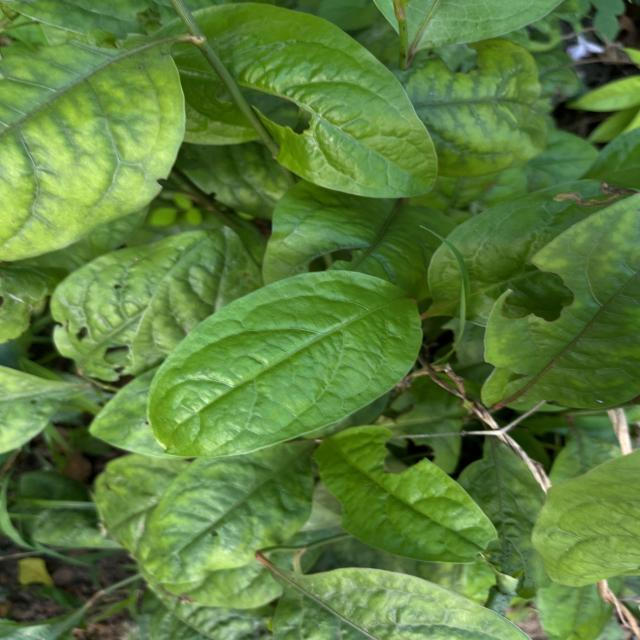Plumbago indica: (142, 266, 427, 462), (178, 1, 448, 202), (307, 419, 504, 568)
